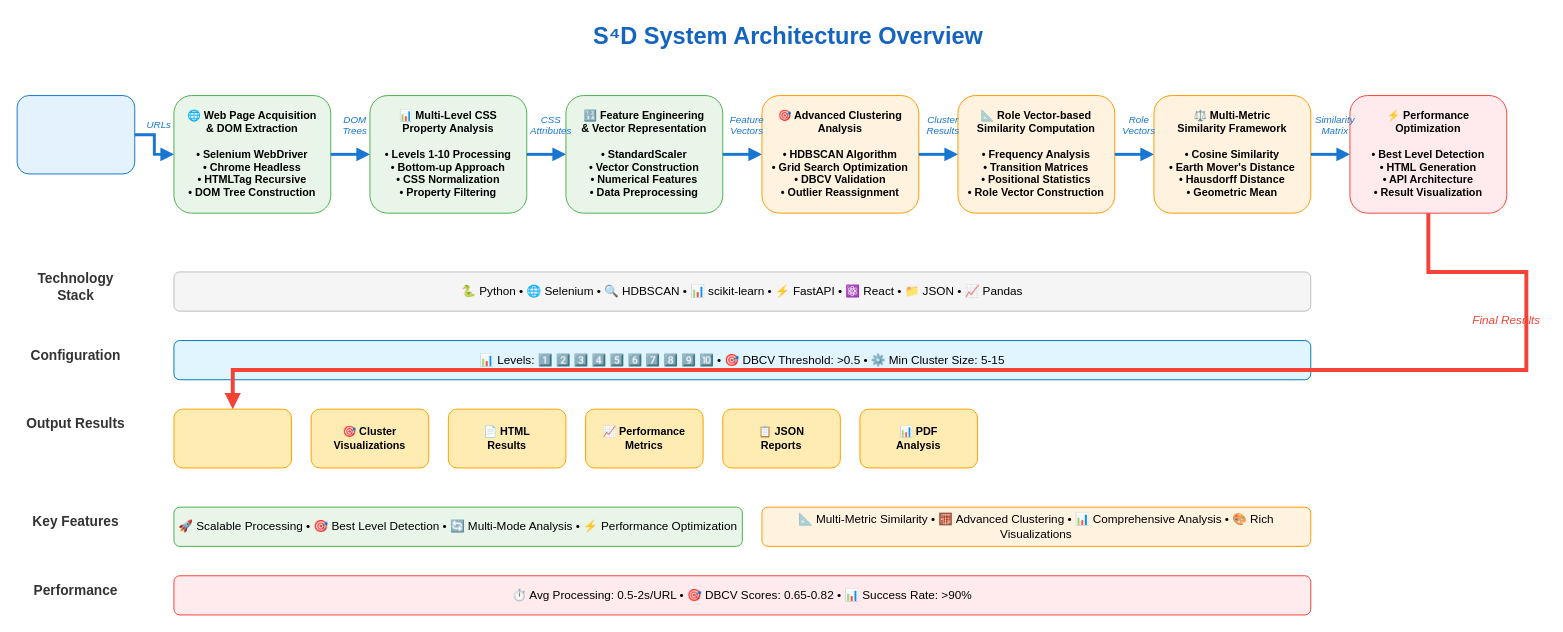
This 1563x632 diagram has some shape labels left out. The centre of each missing label's shape, as x and y in pixels:
"📊 Similarity Matrices" belongs at point 232,438.
"📝 Input URLs • website1.com • website2.com • website3.com" belongs at point 75,134.
